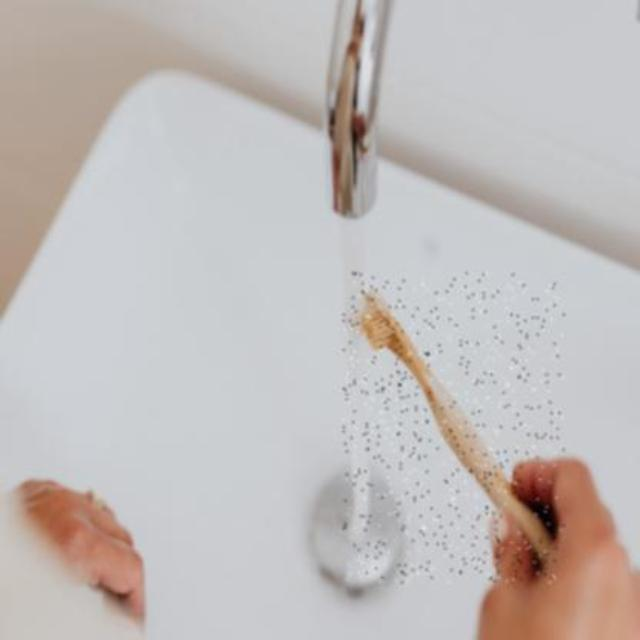toothbrush: (343, 273, 564, 583)
